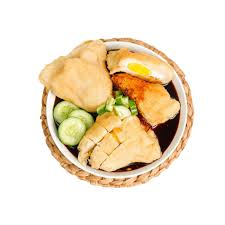Pempek kapal selam: (31, 40, 114, 110), (76, 108, 158, 174)
